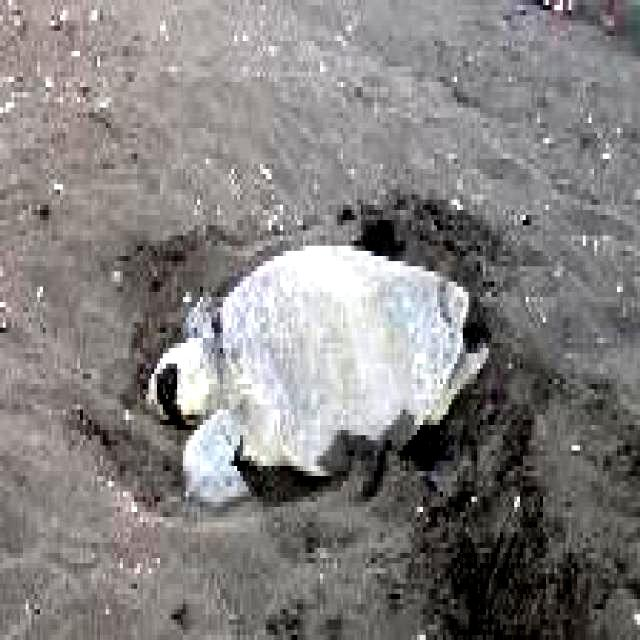Sea turtle: (129, 241, 502, 491)
